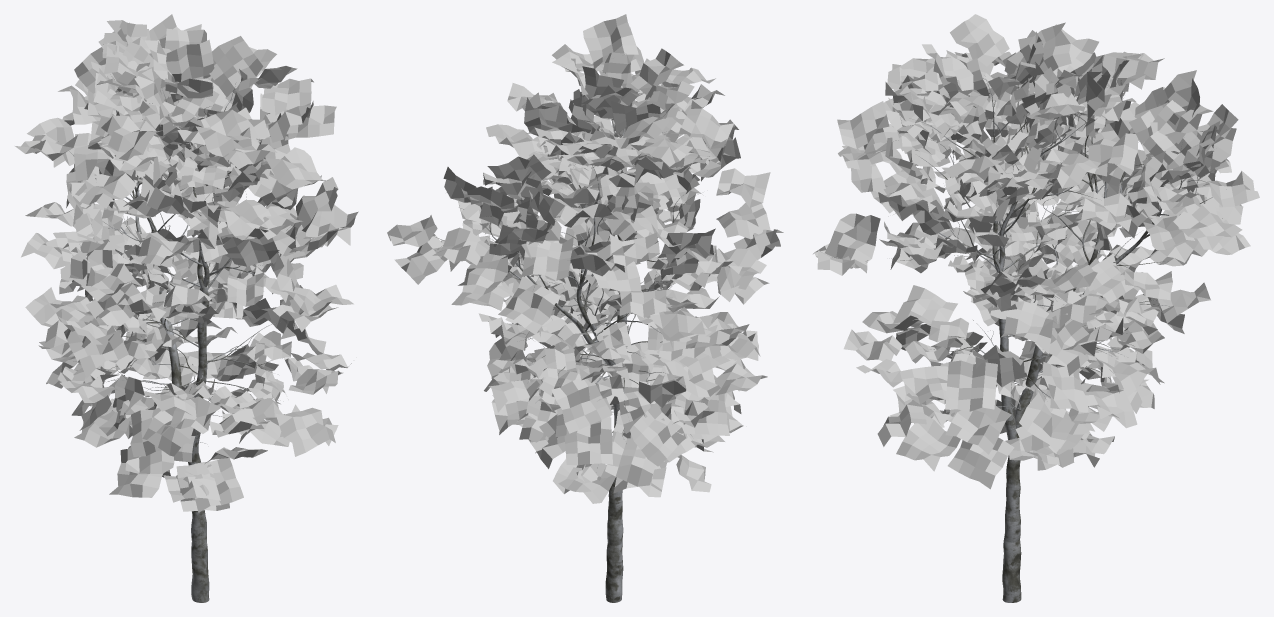
Rendered from BirchTree01.fbx.
The picture shows the model from 3 angles, left to right: view 1: azimuth 30°, elevation 25°; view 2: azimuth 150°, elevation 25°; view 3: azimuth 270°, elevation 25°; orthographic projection. The views are drawn at different scales.
Parts seen in each view (by area): view 1: BirchTree_01_low_Leaves.002, BirchTree_01_high.001, BirchTree_01_high.003, BirchTree_01_high.004; view 2: BirchTree_01_low_Leaves.002, BirchTree_01_high.001, BirchTree_01_high.003, BirchTree_01_high.004; view 3: BirchTree_01_low_Leaves.002, BirchTree_01_high.001, BirchTree_01_high.003, BirchTree_01_high.004.
Boxes of the visible parts, x1,y1,x2,y2 form: BirchTree_01_low_Leaves.002: (15,14,358,512); BirchTree_01_high.001: (62,78,296,449); BirchTree_01_high.003: (135,193,209,544); BirchTree_01_high.004: (191,542,209,602); BirchTree_01_low_Leaves.002: (387,14,783,503); BirchTree_01_high.001: (434,73,700,467); BirchTree_01_high.003: (555,293,623,545); BirchTree_01_high.004: (605,543,623,602); BirchTree_01_low_Leaves.002: (813,14,1259,489); BirchTree_01_high.001: (891,67,1222,428); BirchTree_01_high.003: (992,221,1147,542); BirchTree_01_high.004: (1002,540,1021,602).
Bounding box in the file's own units: 730 × 1408 × 1001.
